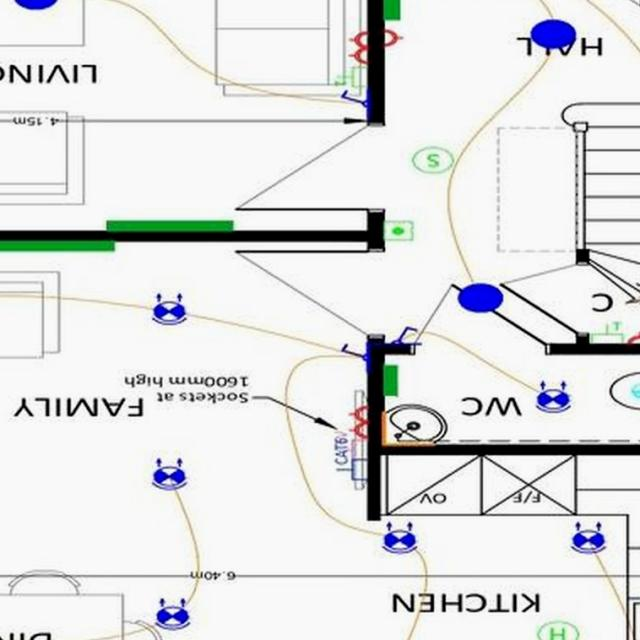Cat 6 Data Socket: (334, 438, 370, 482)
Ceiling Mounted Continuous Extract FanWith Boost Mode Activated By Light Switch: (633, 388, 640, 400)
Double Socket: (349, 30, 369, 65), (349, 405, 368, 438)
Light Switch: (342, 342, 370, 363), (342, 89, 369, 109), (392, 328, 418, 346)
Low Energy Downlighter: (536, 380, 571, 415), (572, 521, 608, 555), (153, 458, 188, 492), (383, 522, 418, 556), (155, 600, 191, 630), (154, 294, 186, 327)
Low Energy Pendant Light: (458, 283, 505, 314), (530, 20, 578, 49), (13, 0, 60, 10)
Mains Wired Smoke Detector: (413, 149, 453, 174)
Programmable Room Thermostat: (384, 222, 415, 242)
Radiator: (108, 221, 236, 231), (0, 242, 116, 252), (382, 0, 403, 22), (384, 366, 398, 398)
Single Socket: (385, 29, 404, 49)
Telephone Socket: (591, 322, 625, 343)
